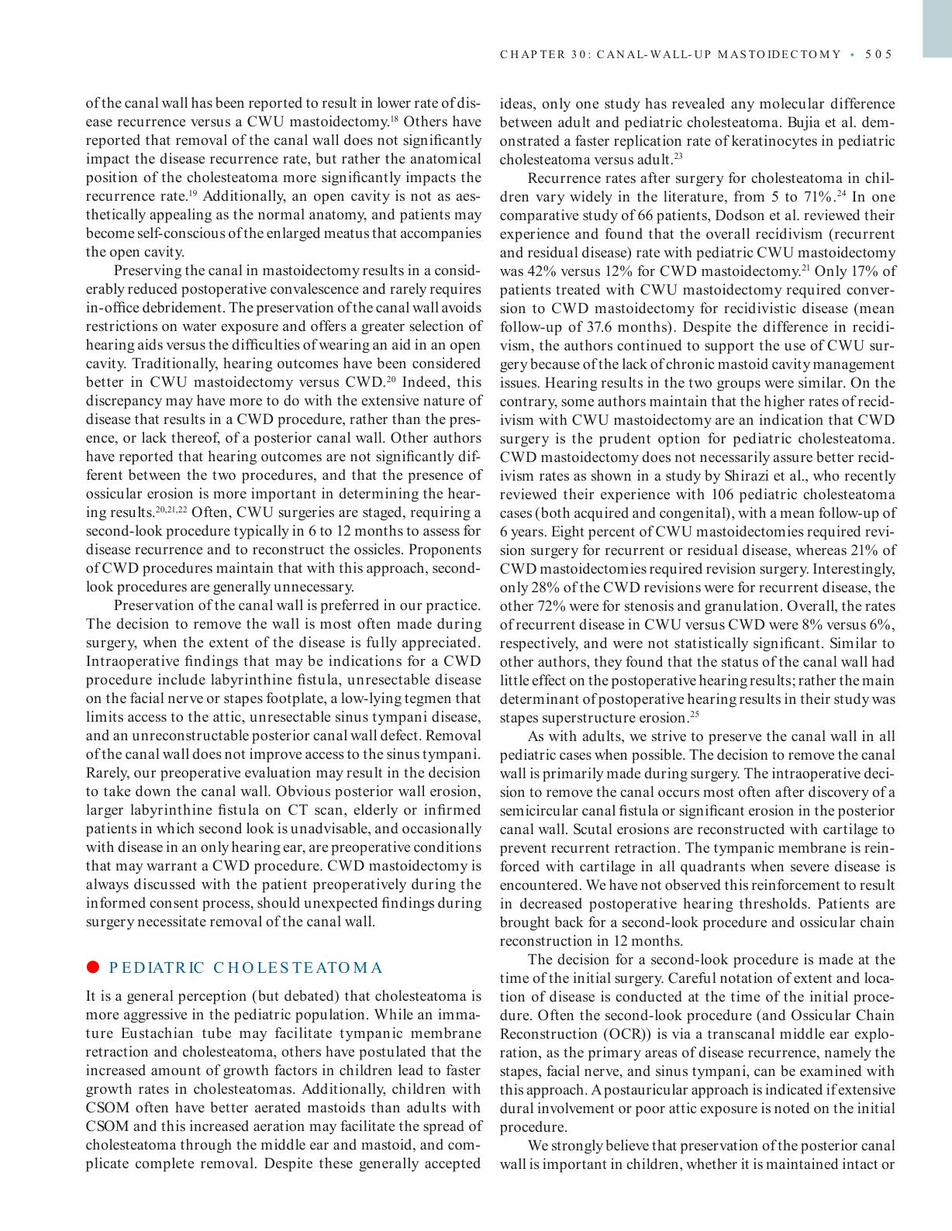header: (498, 48, 843, 61)
section-heading: (107, 957, 382, 975)
text: (496, 95, 898, 1175), (84, 92, 483, 932), (82, 987, 484, 1174)
